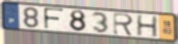3: (91, 11, 110, 34)
8: (68, 9, 88, 33), (22, 6, 40, 29)
F: (43, 7, 65, 31)
H: (136, 15, 159, 39)
R: (113, 12, 135, 37)
